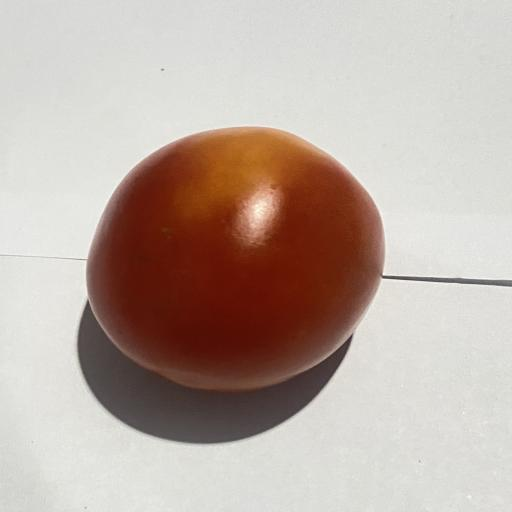ripe: (87, 127, 384, 391)
